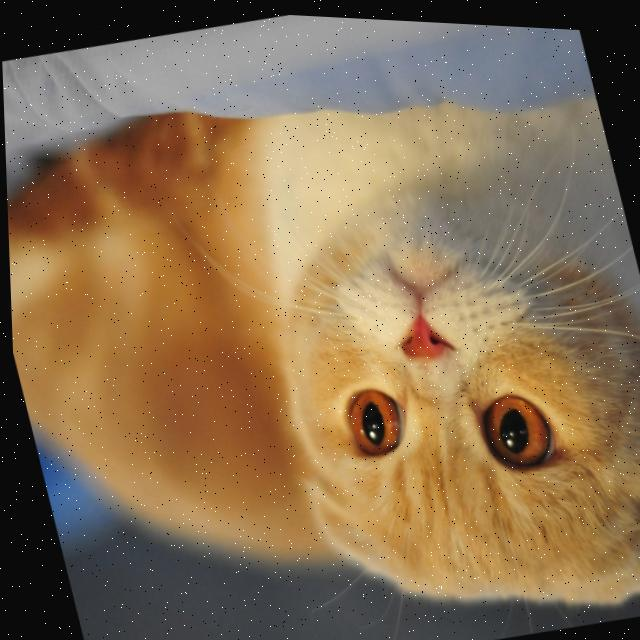Scottish Fold: (0, 6, 640, 640)
